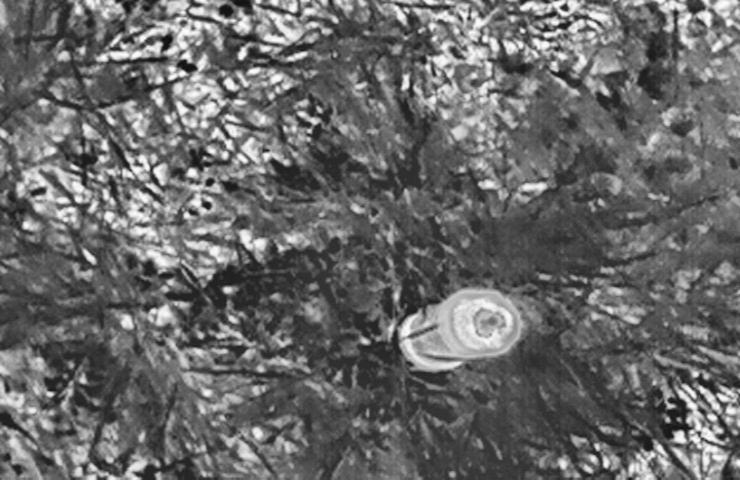landmines: (398, 281, 530, 389)
